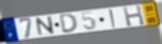5: (81, 11, 99, 31)
7: (18, 17, 34, 40)
D: (58, 12, 80, 34)
H: (122, 4, 147, 28)
I: (108, 8, 118, 29)
N: (35, 15, 57, 38)
